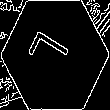L_SE: (30, 29, 80, 81)
